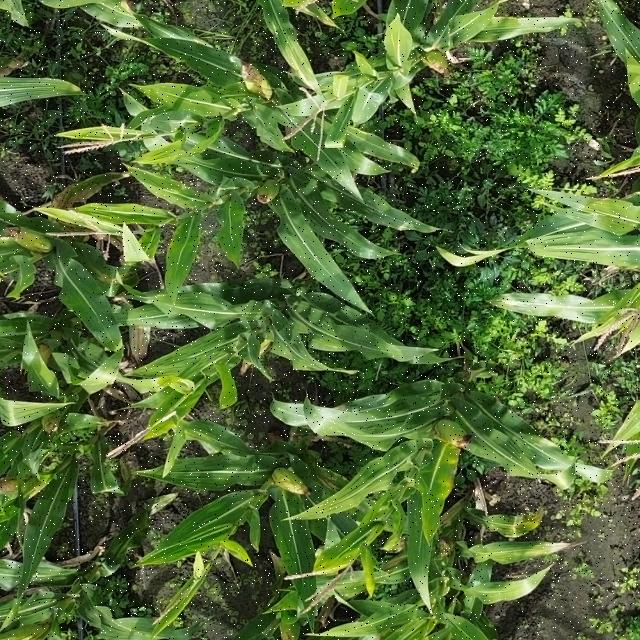gray-leaf-spot: (171, 40, 228, 75), (509, 424, 562, 461), (352, 191, 407, 224), (314, 468, 364, 499), (337, 392, 397, 416), (91, 264, 140, 288), (300, 209, 342, 233), (309, 332, 349, 355), (200, 430, 239, 453), (355, 419, 393, 440)
southern-leaf-blight: (500, 290, 555, 318)
